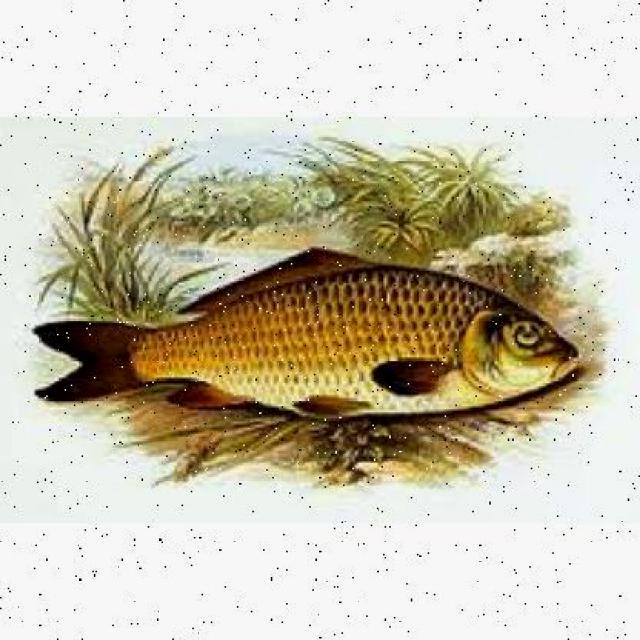ikan-mas: (33, 248, 584, 426)
